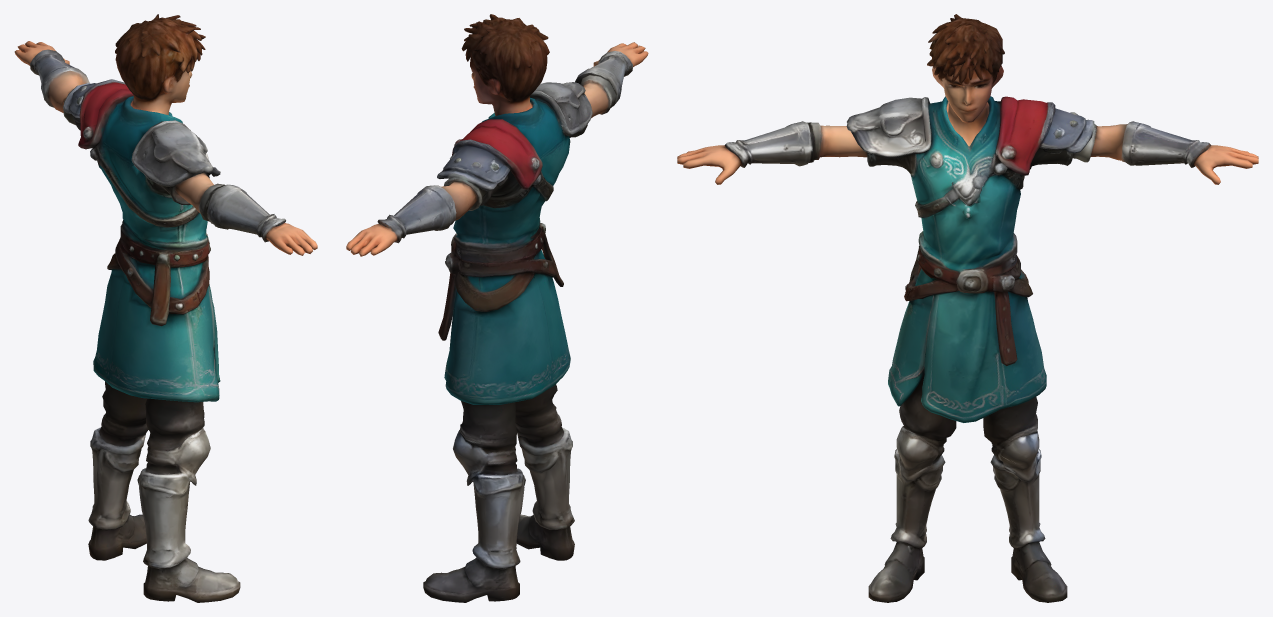
3 views of the same model, side by side, from view 1: azimuth 30°, elevation 25°; view 2: azimuth 150°, elevation 25°; view 3: azimuth 270°, elevation 25° (orthographic). The views are drawn at different scales.
Parts seen in each view (by area): view 1: tripo_node_1583ed20-95aa-4c5c-a27e-9662a3cea8c6; view 2: tripo_node_1583ed20-95aa-4c5c-a27e-9662a3cea8c6; view 3: tripo_node_1583ed20-95aa-4c5c-a27e-9662a3cea8c6.
Part boxes in pixels (bbox=[...]): tripo_node_1583ed20-95aa-4c5c-a27e-9662a3cea8c6: bbox=[14, 14, 317, 602]; tripo_node_1583ed20-95aa-4c5c-a27e-9662a3cea8c6: bbox=[346, 14, 648, 602]; tripo_node_1583ed20-95aa-4c5c-a27e-9662a3cea8c6: bbox=[677, 14, 1258, 602].
Size of the model in its own units: 0.1996 by 0.998 by 0.9335.
Materials: 1 (1 with a texture image).
